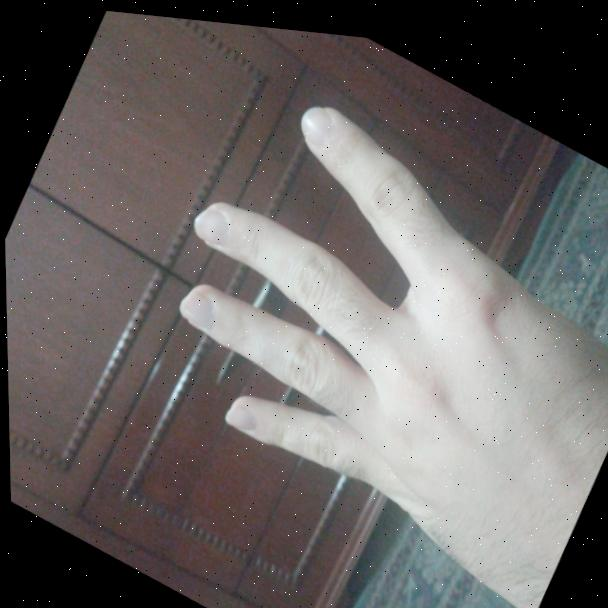four: (79, 12, 608, 608)
